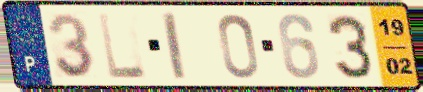0: (215, 11, 261, 81)
3: (45, 11, 97, 81), (325, 12, 375, 81)
6: (276, 12, 321, 81)
I: (159, 10, 189, 82)
L: (96, 10, 150, 81)
